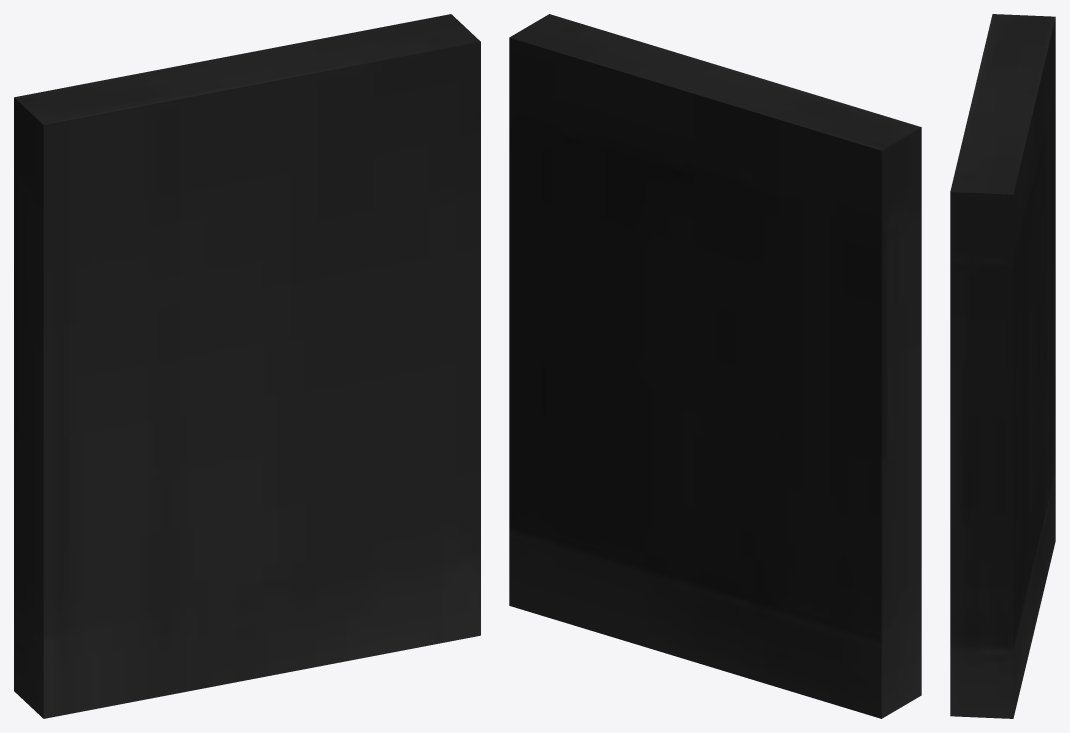
File: seat__seat_hinge_plate.glb
3 renders of one model, left to right at view 1: azimuth 30°, elevation 25°; view 2: azimuth 150°, elevation 25°; view 3: azimuth 270°, elevation 25°, orthographic. The views are drawn at different scales.
Parts seen in each view (by area): view 1: world; view 2: world; view 3: world.
Part boxes in pixels (bbox=[...]): world: bbox=[14, 14, 480, 718]; world: bbox=[509, 14, 921, 718]; world: bbox=[950, 14, 1055, 718].
Bounding box in the file's own units: 0.1212 × 0.164 × 0.0299.
Materials: 1 (1 with a texture image).
